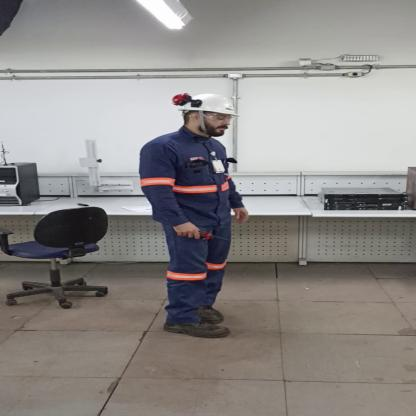Capacete: (172, 87, 242, 118)
